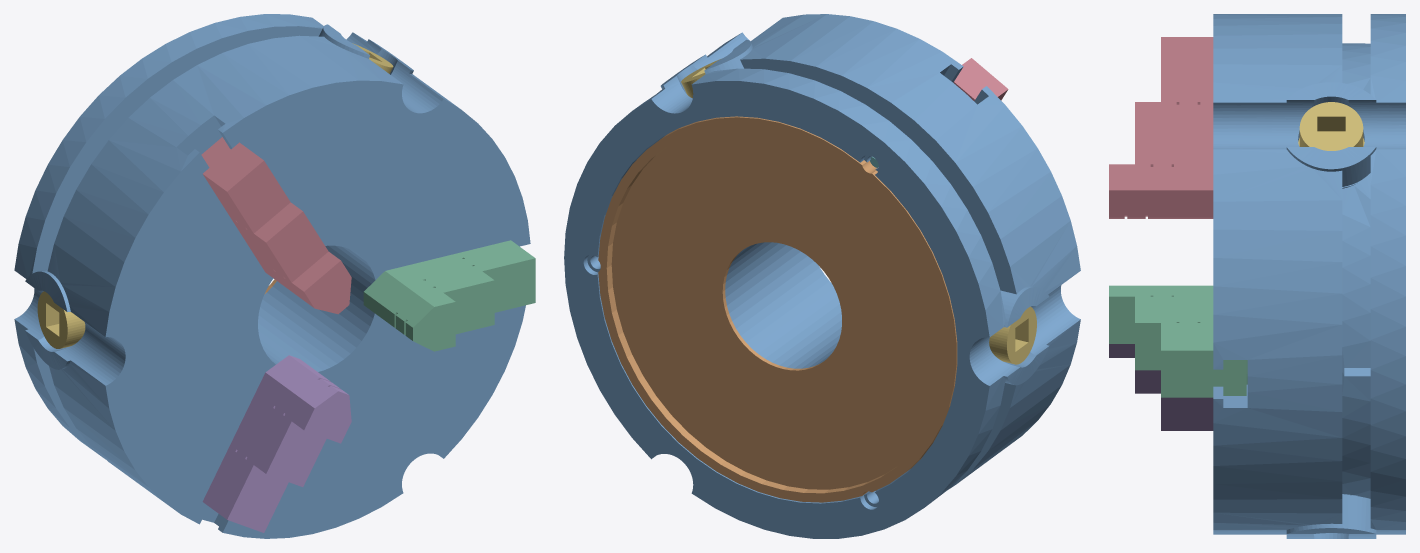
3 renders of one model, left to right at view 1: azimuth 30°, elevation 25°; view 2: azimuth 150°, elevation 25°; view 3: azimuth 270°, elevation 25°, orthographic. The views are drawn at different scales.
Parts seen in each view (by area): view 1: body_0_0, jaw_3_4_0, jaw_1_2_0, jaw_2_3_0, pinion_6_0; view 2: body_0_0, cover_1_0, pinion_6_0, jaw_2_3_0; view 3: body_0_0, jaw_2_3_0, jaw_1_2_0, jaw_3_4_0, pinion_5_0.
Part boxes in pixels (x1=…): body_0_0: x1=14, y1=14, x2=530, y2=538; jaw_3_4_0: x1=202, y1=355, x2=351, y2=532; jaw_1_2_0: x1=363, y1=240, x2=535, y2=351; jaw_2_3_0: x1=201, y1=137, x2=351, y2=314; pinion_6_0: x1=37, y1=291, x2=85, y2=348; body_0_0: x1=564, y1=14, x2=1080, y2=538; cover_1_0: x1=598, y1=116, x2=957, y2=502; pinion_6_0: x1=989, y1=306, x2=1036, y2=364; jaw_2_3_0: x1=953, y1=58, x2=1008, y2=100; body_0_0: x1=1213, y1=14, x2=1405, y2=538; jaw_2_3_0: x1=1109, y1=37, x2=1213, y2=218; jaw_1_2_0: x1=1109, y1=285, x2=1247, y2=397; jaw_3_4_0: x1=1109, y1=344, x2=1213, y2=430; pinion_5_0: x1=1298, y1=102, x2=1364, y2=150.
Size of the model in its own units: 101 by 99.98 by 57.
